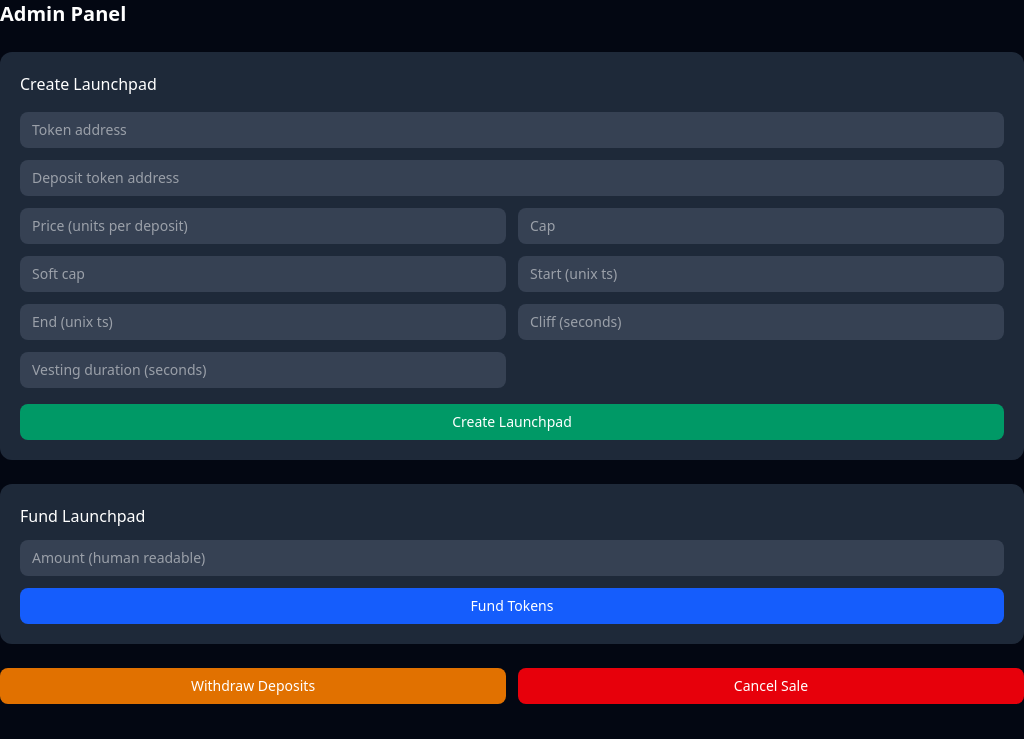
Test: AdminPanel › handleCreate shows error on failure
Type "T" into the field with placeholder "Token address" at (512, 130), box top-left (20, 112), bottom-right (1004, 148)
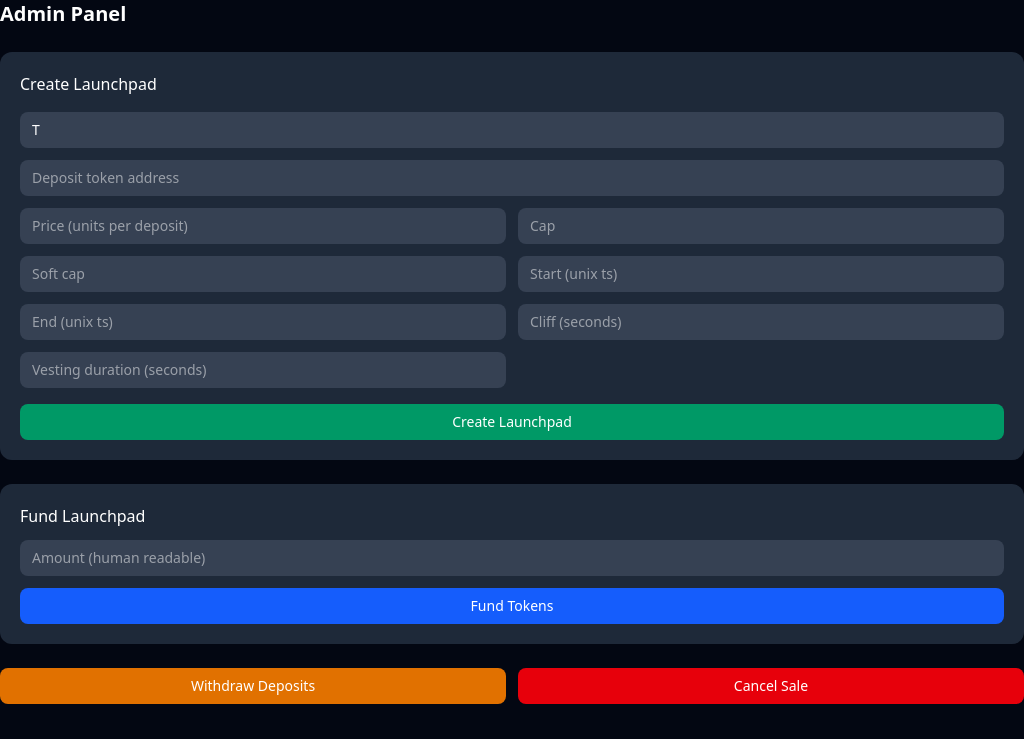
Type "D" into the field with placeholder "Deposit token address" at (512, 178), box top-left (20, 160), bottom-right (1004, 196)
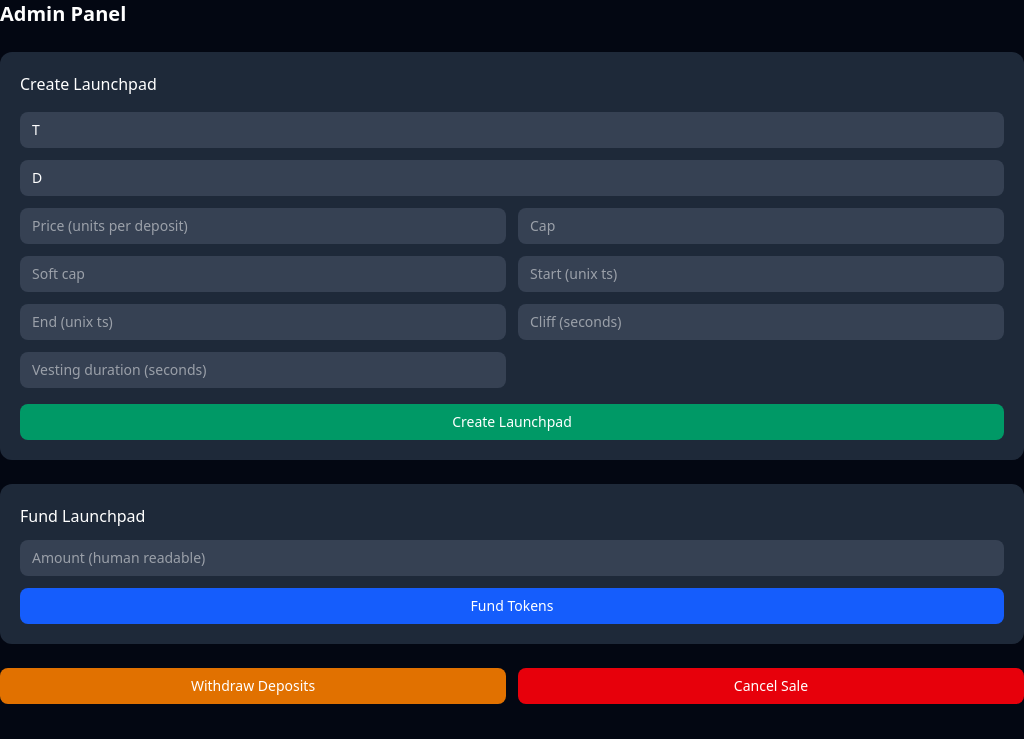
Type "1" into the number field with placeholder "Price (units per deposit)" at (263, 226), box top-left (20, 208), bottom-right (506, 244)
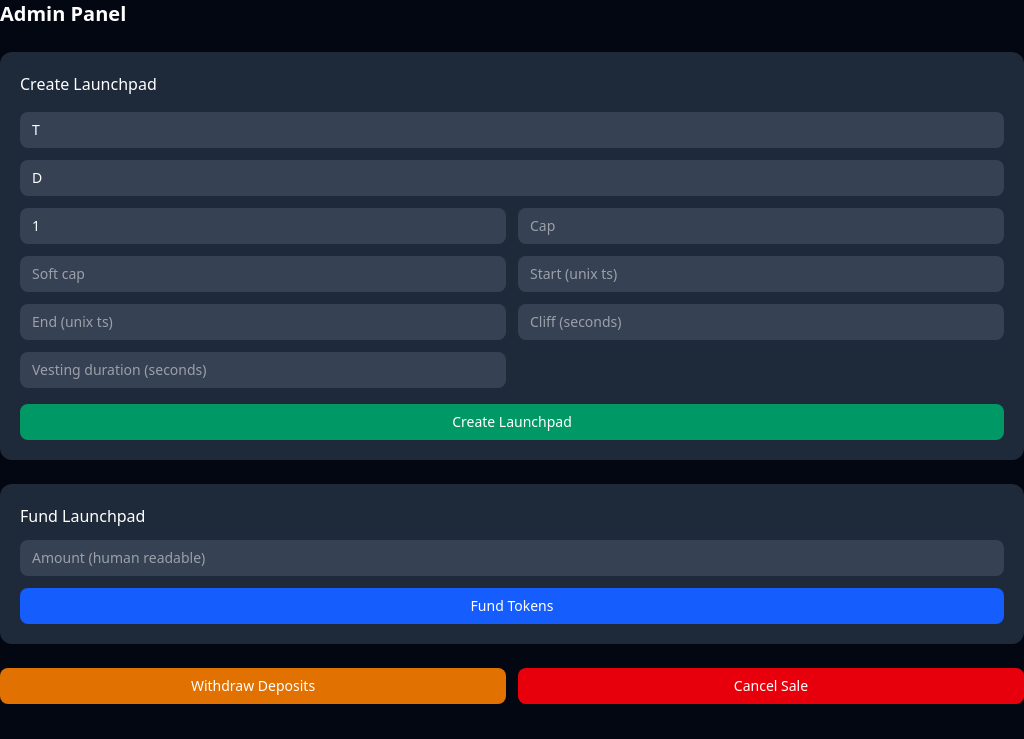
Type "1" into the number field with placeholder "Cap" at (761, 226), box top-left (518, 208), bottom-right (1004, 244)
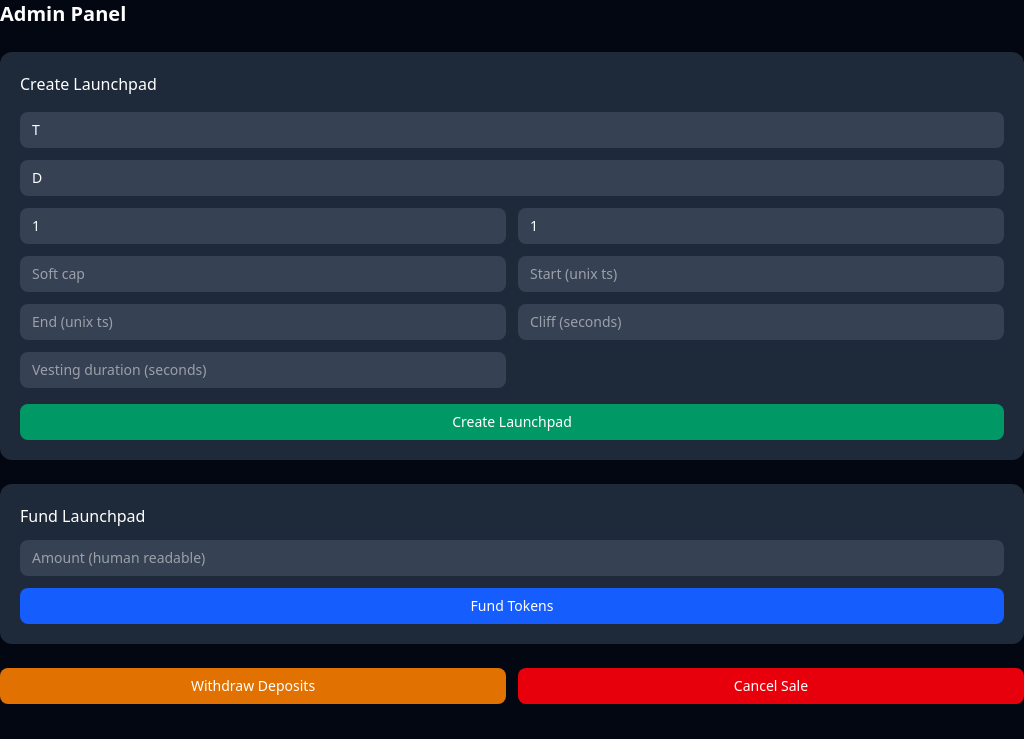
Type "1" into the number field with placeholder "Soft cap" at (263, 274), box top-left (20, 256), bottom-right (506, 292)
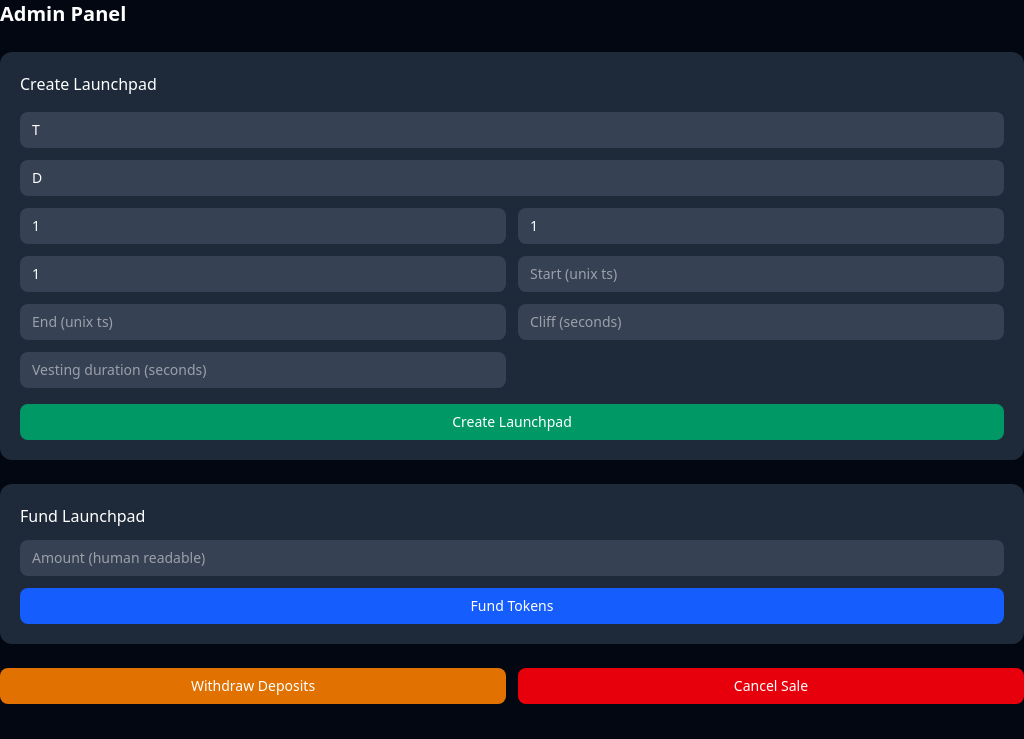
Click the button "Create Launchpad" at (512, 422), box top-left (20, 404), bottom-right (1004, 440)
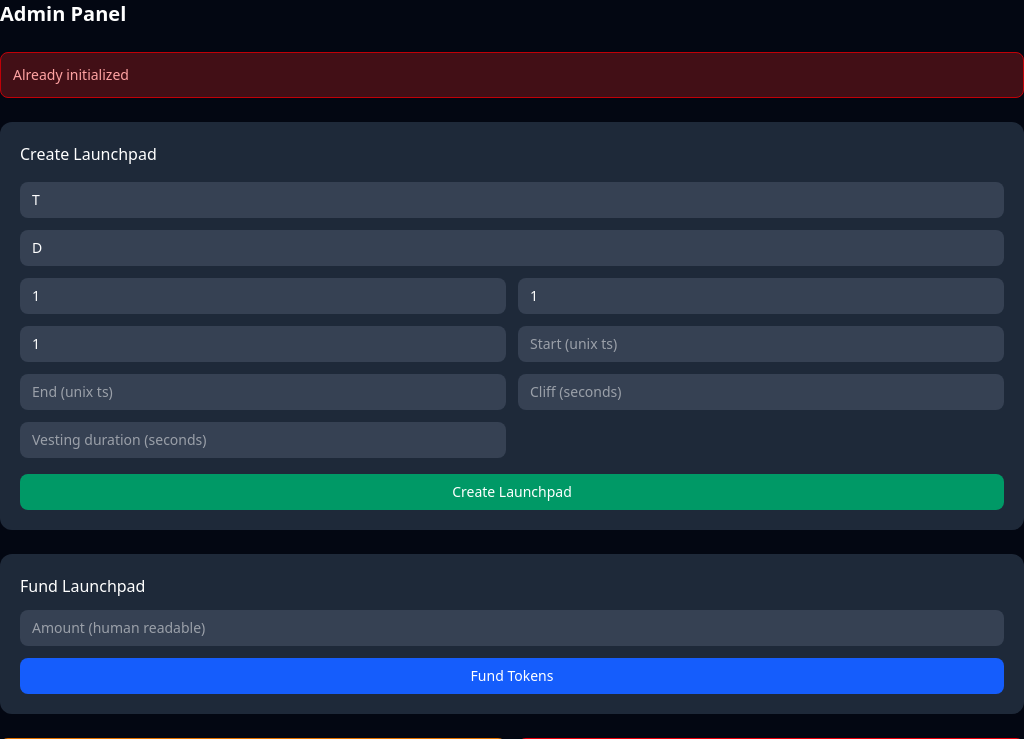
Check: the text "Already initialized" is shown, box top-left (0, 52), bottom-right (1023, 98)
